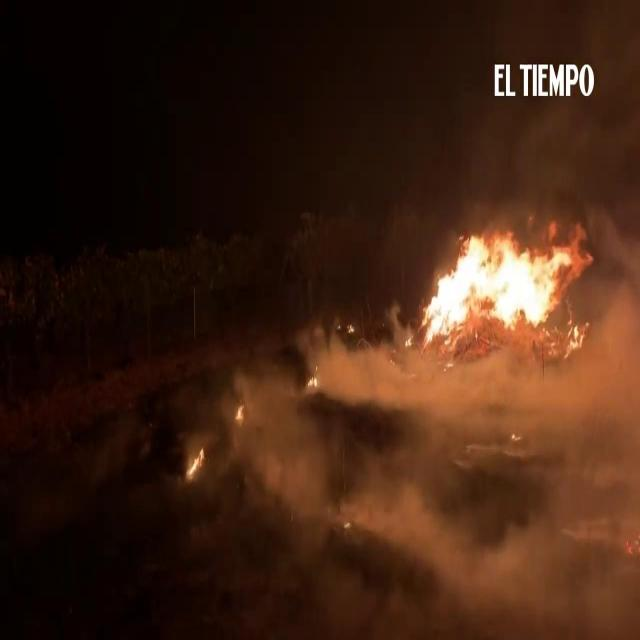Fire: (414, 212, 594, 358), (187, 446, 205, 480), (233, 396, 246, 425), (306, 372, 318, 386), (347, 321, 355, 334), (403, 334, 411, 347)
